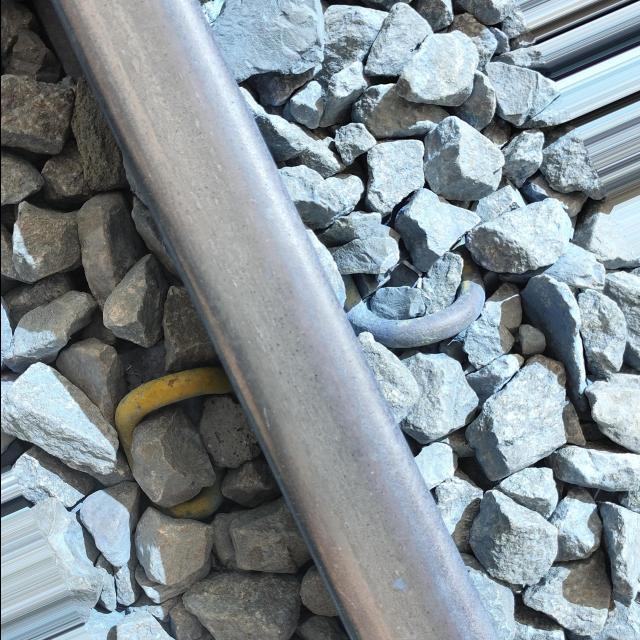broken_rail_medium: (389, 577, 412, 593)
